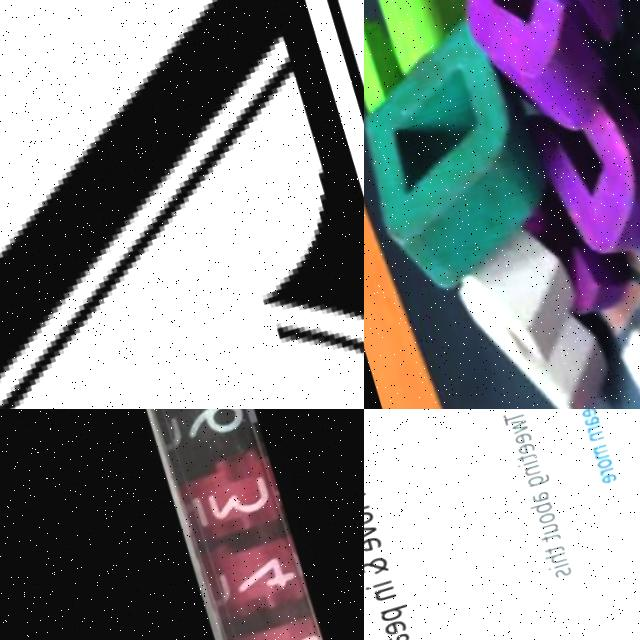3: (203, 463, 278, 525)
4: (232, 543, 305, 599)
6: (180, 409, 253, 444), (275, 621, 340, 640)
D: (364, 15, 573, 303)
G: (427, 0, 640, 157)
Z: (0, 0, 364, 409)
